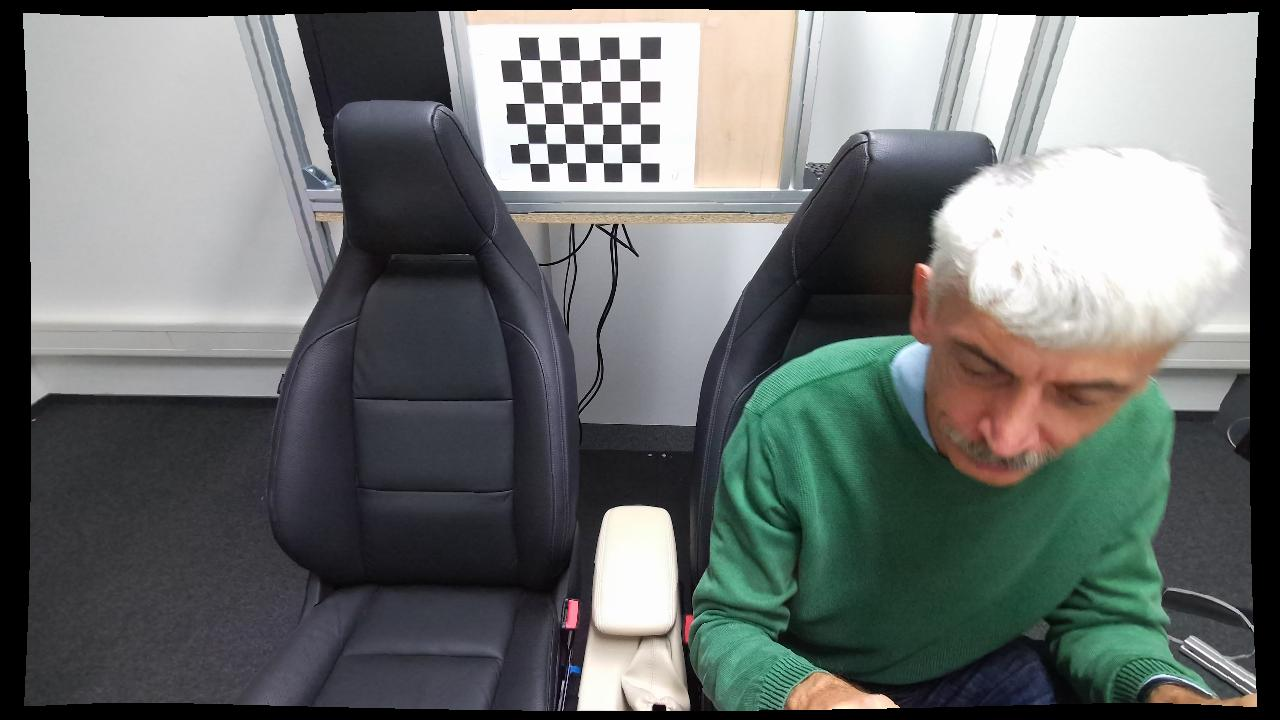Distracted: (677, 140, 1251, 712)
